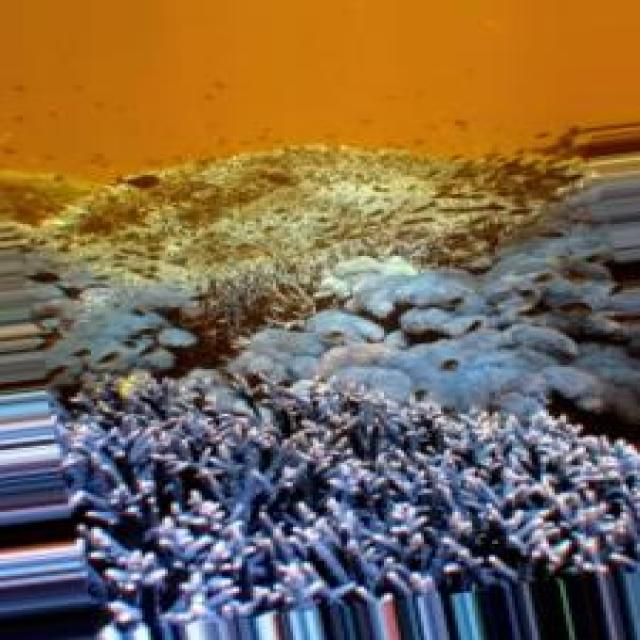Healthy: (24, 364, 640, 615), (260, 223, 640, 417), (33, 202, 310, 440)
